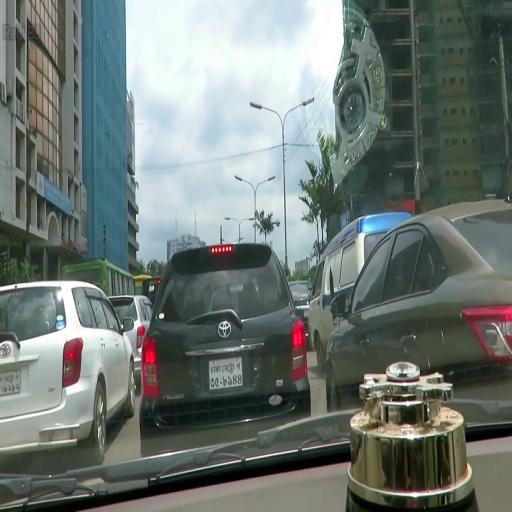bus: (63, 260, 138, 300)
car: (323, 196, 512, 423), (138, 239, 312, 462), (1, 273, 138, 475), (108, 291, 157, 398)
van: (299, 211, 409, 374)
